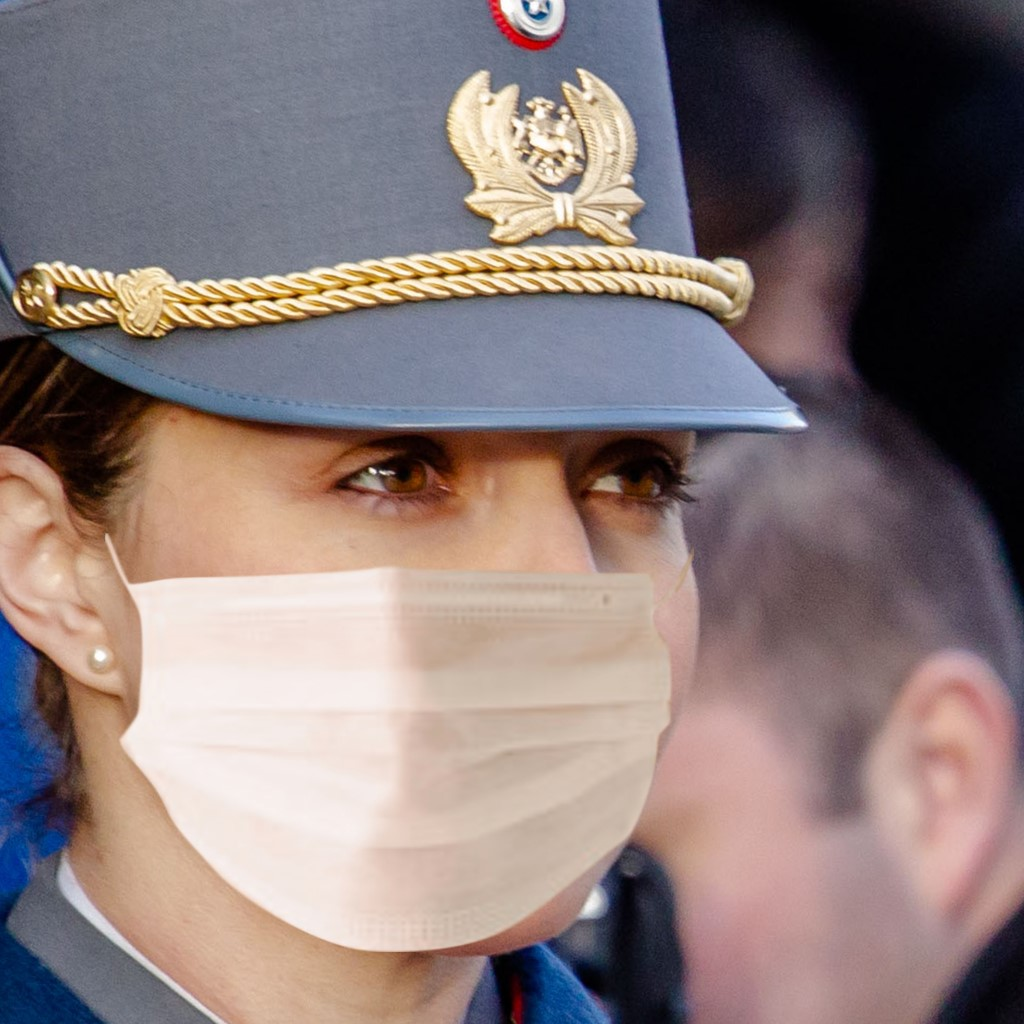con_mascara: (39, 303, 702, 975)
